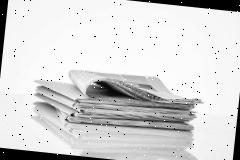paper: (29, 78, 198, 135), (66, 67, 204, 110), (54, 108, 195, 142)
